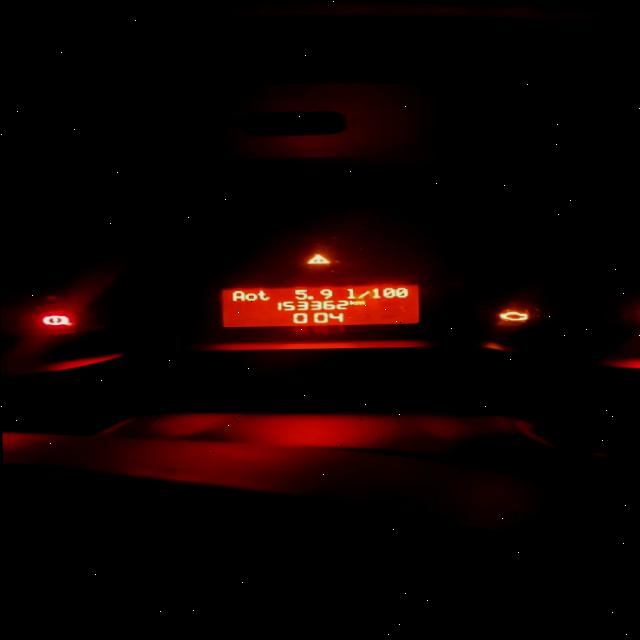odometer: (217, 282, 427, 330)
